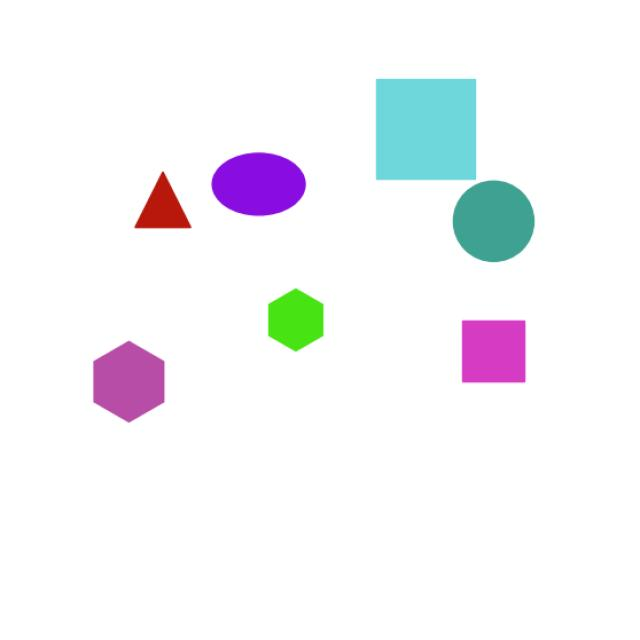Circle: (437, 174, 558, 284)
Hexagon: (76, 322, 199, 444), (247, 279, 337, 372)
Oval: (202, 150, 314, 228)
Triangle: (116, 159, 198, 240)
square: (358, 46, 482, 187), (450, 301, 549, 395)
